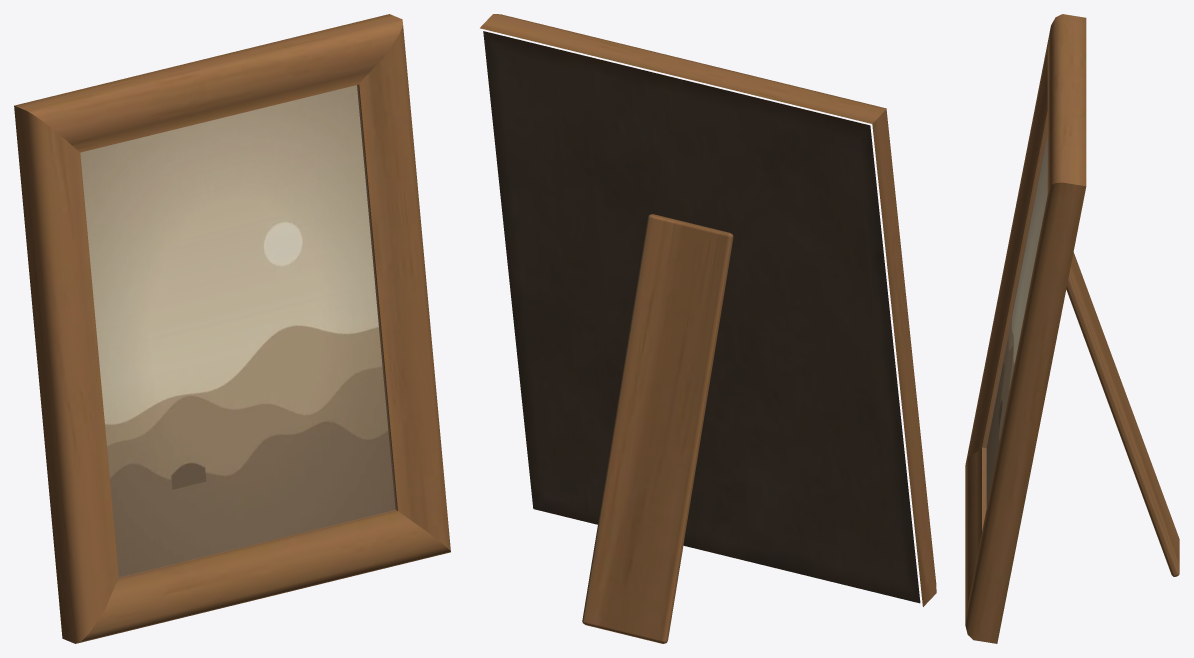
Rendered from photo_frame.glb.
3 renders of one model, left to right at view 1: azimuth 30°, elevation 25°; view 2: azimuth 150°, elevation 25°; view 3: azimuth 270°, elevation 25°, orthographic. The views are drawn at different scales.
Visible parts, largest first — view 1: photo_image, frame_body; view 2: frame_body; view 3: frame_body, photo_image.
Part boxes in pixels (x1,y1,x2,y2): photo_image: (80, 85, 395, 577); frame_body: (14, 14, 450, 643); frame_body: (480, 14, 936, 643); frame_body: (965, 14, 1179, 643); photo_image: (986, 135, 1047, 507).
Bounding box in the file's own units: 1.4 × 1.79 × 0.752.
Materials: 3 (2 with a texture image).
